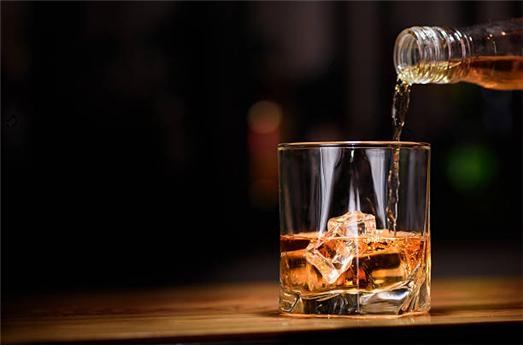alcohol: (276, 137, 432, 316), (396, 14, 522, 96)
